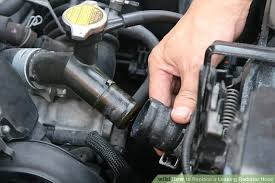radiator_hose: (8, 48, 137, 123)
